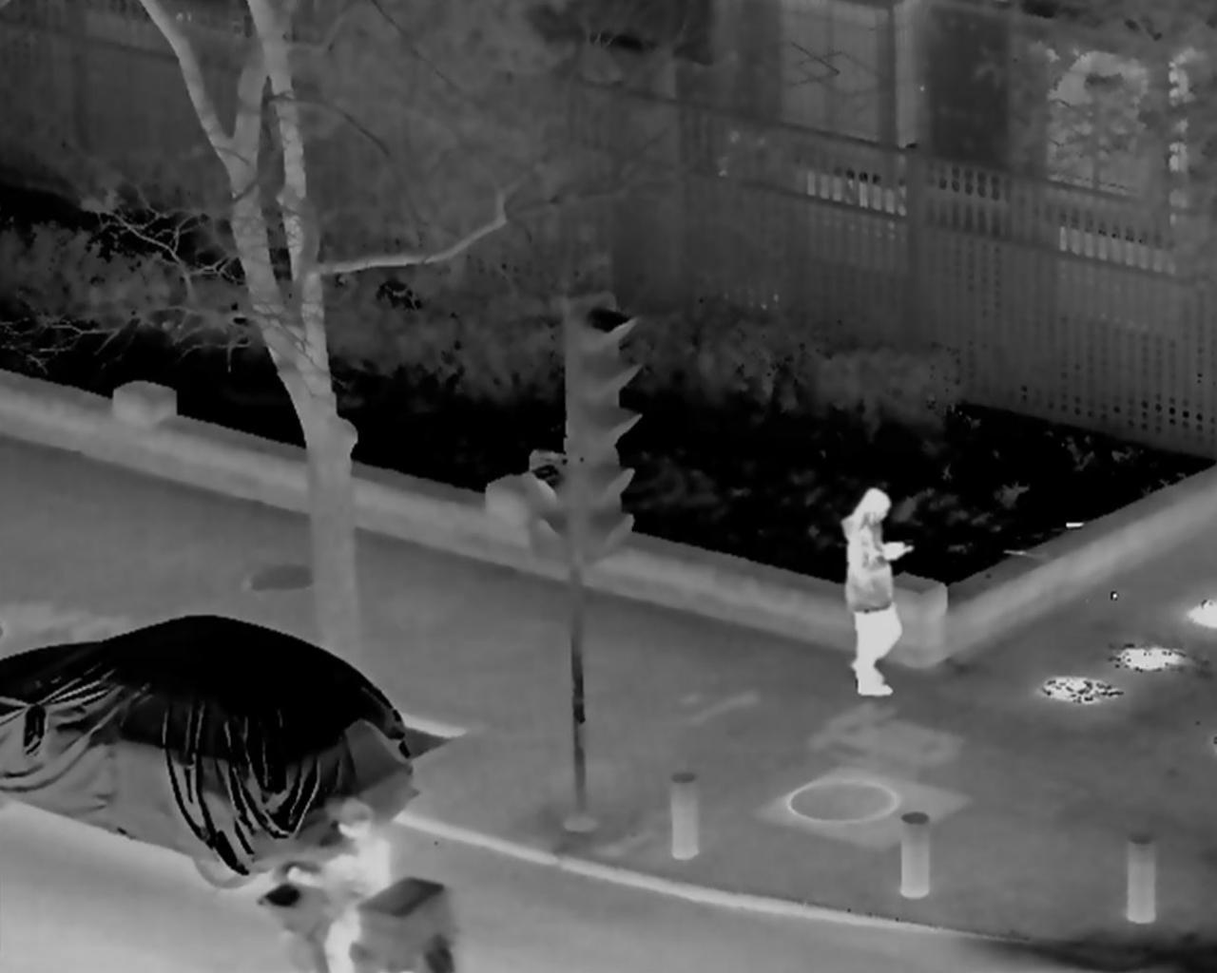person: (291, 803, 397, 973), (837, 489, 905, 699)
